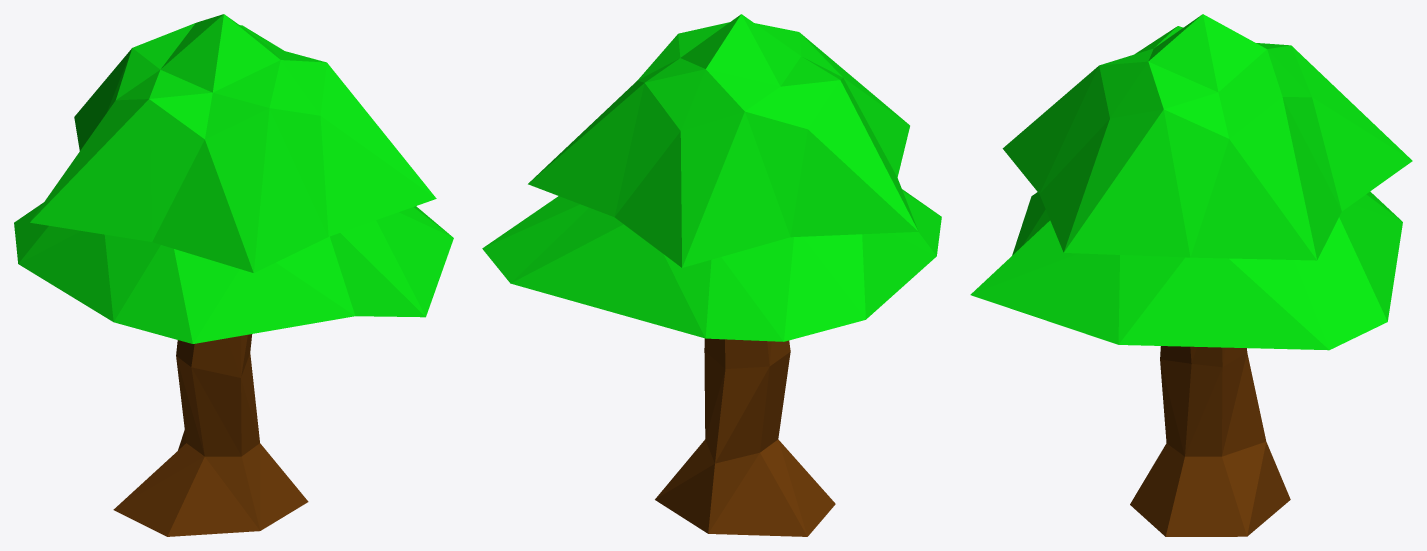
The model's file is TreeModel03.fbx.
The picture shows the model from 3 angles, left to right: view 1: azimuth 30°, elevation 25°; view 2: azimuth 150°, elevation 25°; view 3: azimuth 270°, elevation 25°; orthographic projection.
Visible parts, largest first — view 1: Tree3; view 2: Tree3; view 3: Tree3.
Boxes of the visible parts, bbox=[...] form: Tree3: bbox=[14, 14, 453, 536]; Tree3: bbox=[482, 14, 941, 536]; Tree3: bbox=[970, 14, 1412, 536].
Bounding box in the file's own units: 3 × 3.64 × 2.98.
